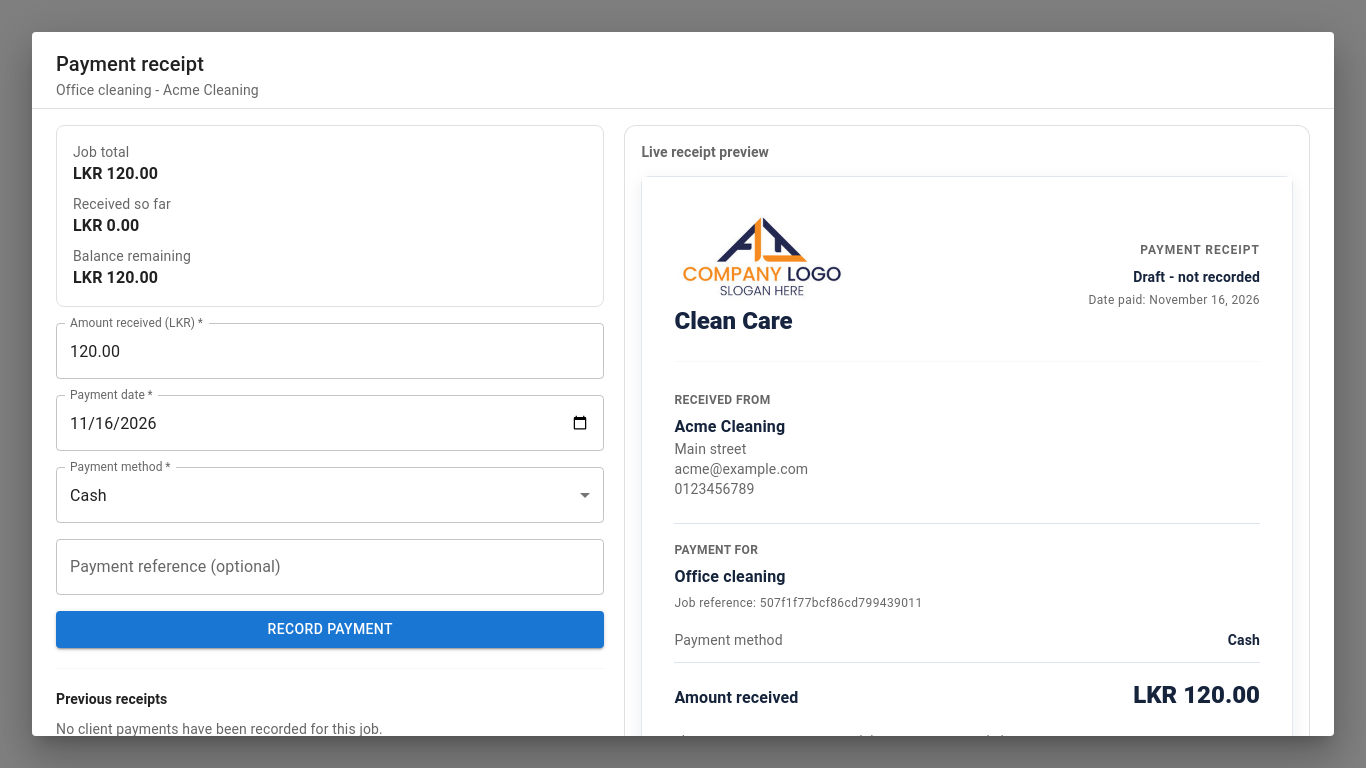
Test: React Hook Form submission boundaries › rejects overpayments before recording a receipt
The image size is (1366, 768).
Step 1. Replace the text in the number field labelled "Amount received (LKR) *" with "9999" → (330, 351), box [56,323,604,379]
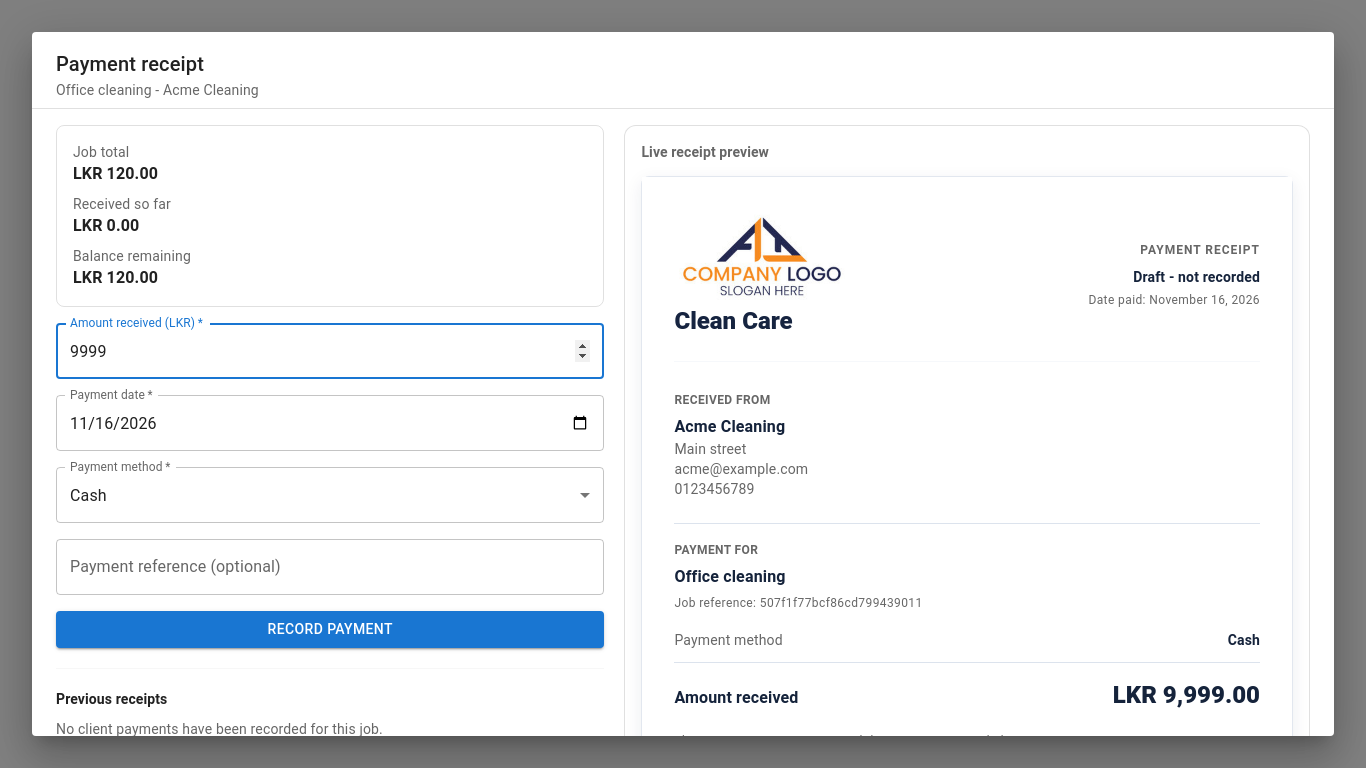
Step 2. Click the button "Record payment" → (330, 629), box [56,611,604,648]
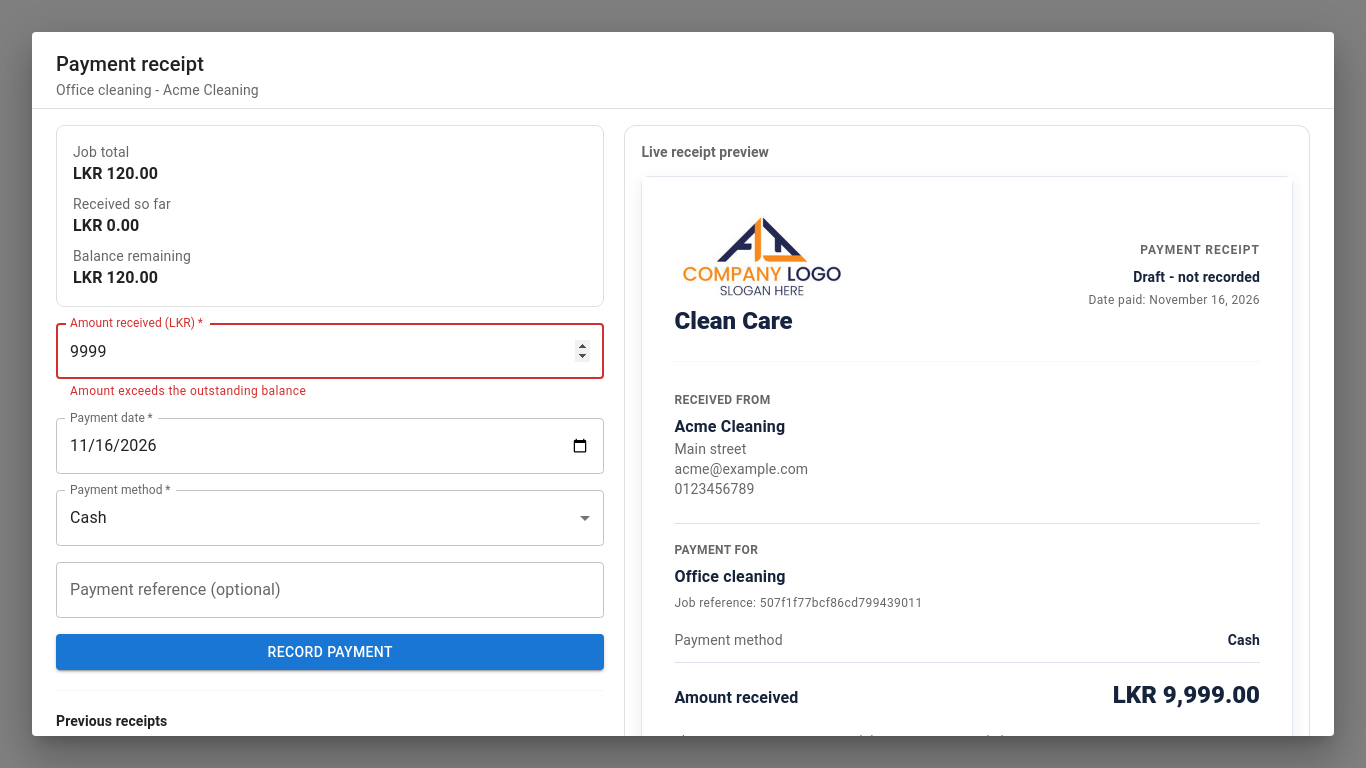
Expected: the text "Amount exceeds the outstanding balance" is shown, [70,384,306,398]
